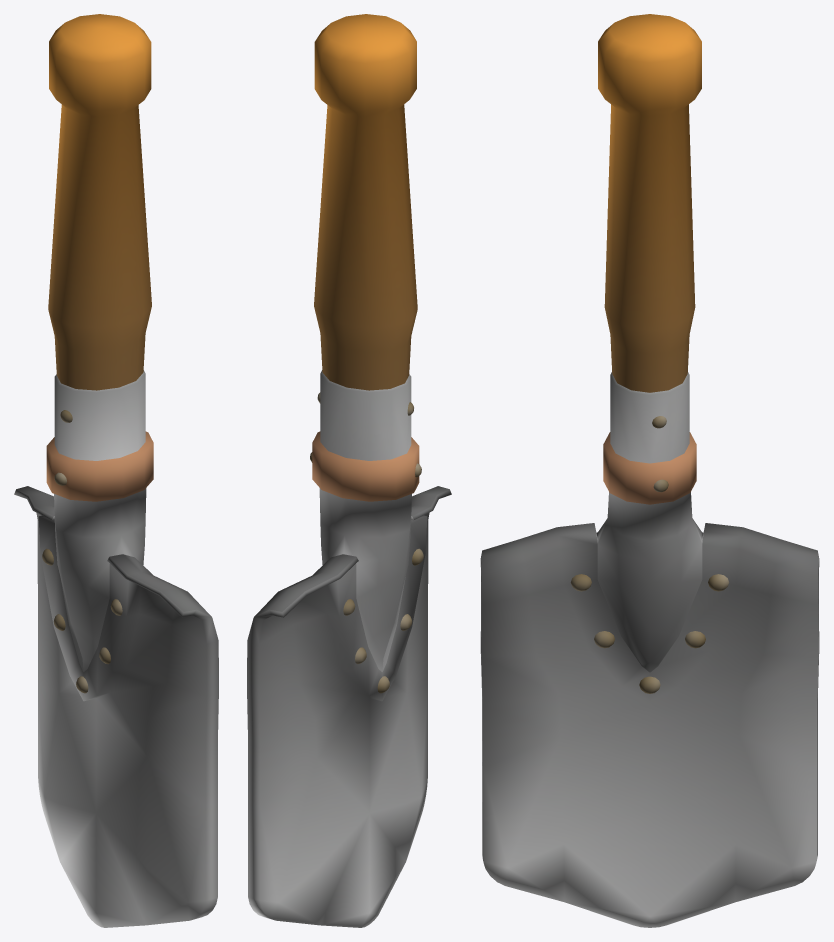
File: shovel5.fbx
3 renders of one model, left to right at view 1: azimuth 30°, elevation 25°; view 2: azimuth 150°, elevation 25°; view 3: azimuth 270°, elevation 25°, orthographic.
Parts seen in each view (by area): view 1: LP; view 2: LP; view 3: LP.
Part boxes in pixels (x1,y1,x2,y2): LP: [14, 14, 218, 927]; LP: [247, 14, 451, 927]; LP: [480, 14, 819, 927].
Size of the model in its own units: 0.1777 by 1.53 by 0.5232.
